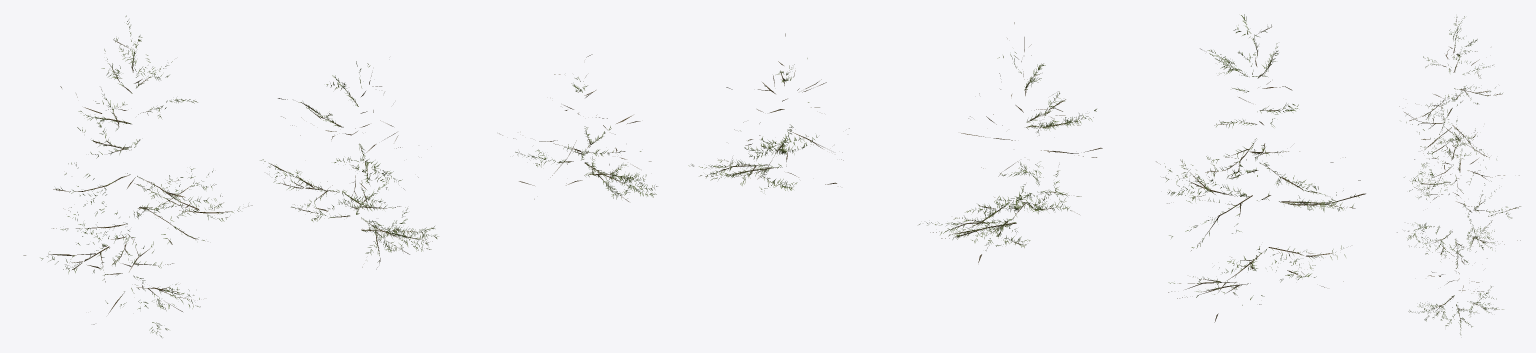
Rendered from fir_sapling.glb.
3 views of the same model, side by side, from view 1: azimuth 30°, elevation 25°; view 2: azimuth 150°, elevation 25°; view 3: azimuth 270°, elevation 25° (orthographic). The views are drawn at different scales.
Parts seen in each view (by area): view 1: fir_sapling_a; view 2: fir_sapling_a; view 3: fir_sapling_a.
Boxes of the visible parts, x1,y1,x2,y2 form: fir_sapling_a: [23, 15, 657, 337]; fir_sapling_a: [688, 14, 1365, 322]; fir_sapling_a: [1397, 16, 1520, 334].
Bounding box in the file's own units: 2.71 × 1.23 × 0.8096.
Materials: 1 (1 with a texture image).
